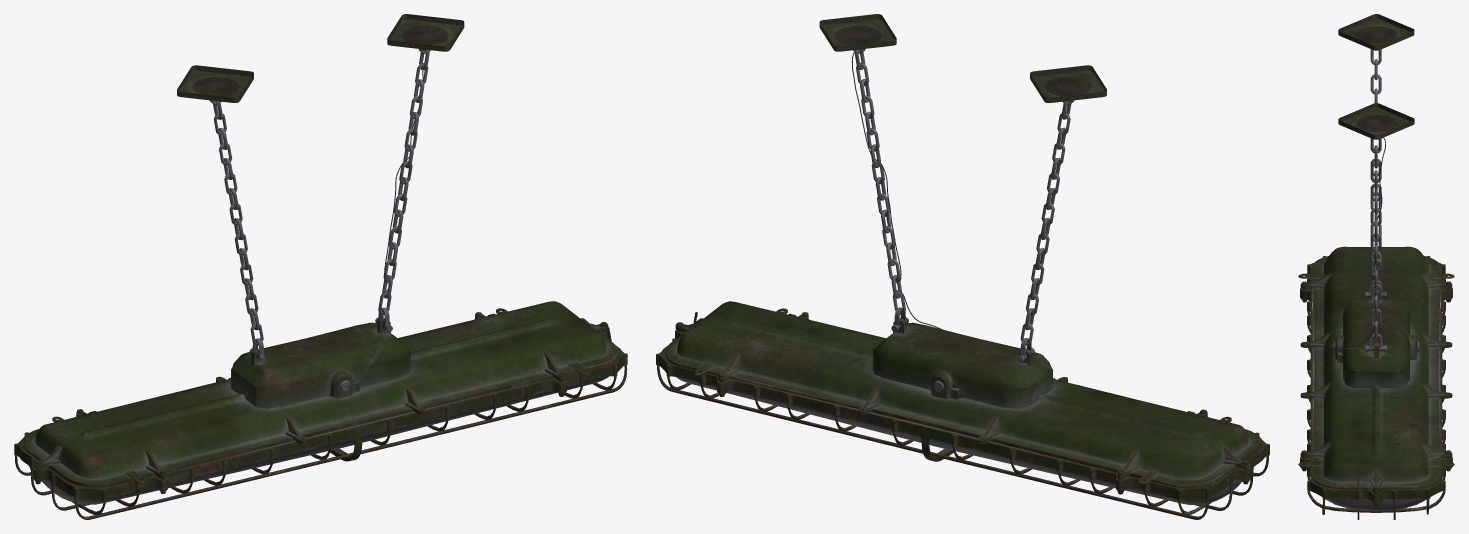
Rendered from caged_hanging_light.glb.
The picture shows the model from 3 angles, left to right: view 1: azimuth 30°, elevation 25°; view 2: azimuth 150°, elevation 25°; view 3: azimuth 270°, elevation 25°; orthographic projection. The views are drawn at different scales.
Parts seen in each view (by area): view 1: caged_hanging_light; view 2: caged_hanging_light; view 3: caged_hanging_light.
Boxes of the visible parts, bbox=[...] form: caged_hanging_light: bbox=[14, 14, 627, 519]; caged_hanging_light: bbox=[656, 14, 1269, 519]; caged_hanging_light: bbox=[1298, 14, 1454, 519].
Bounding box in the file's own units: 1.16 × 0.7501 × 0.3149.
Materials: 1 (1 with a texture image).
